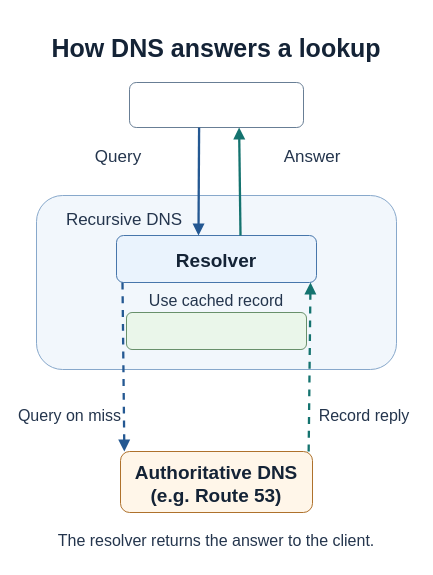
This 433x575 diagram has some shape labels left out. Each missing label, with the centre of its shape:
"Cache" belongs at [216,331].
"DNS client" belongs at [216,105].
